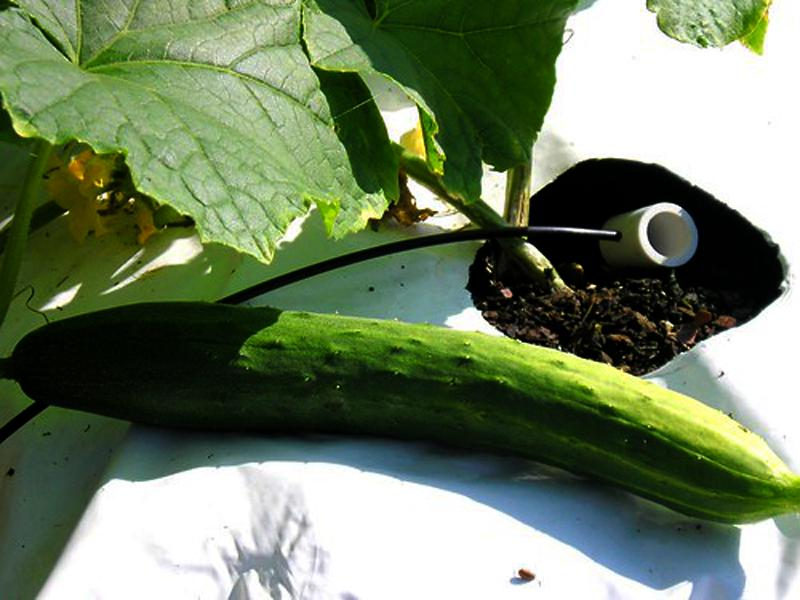Cucumber: (3, 302, 798, 523)
